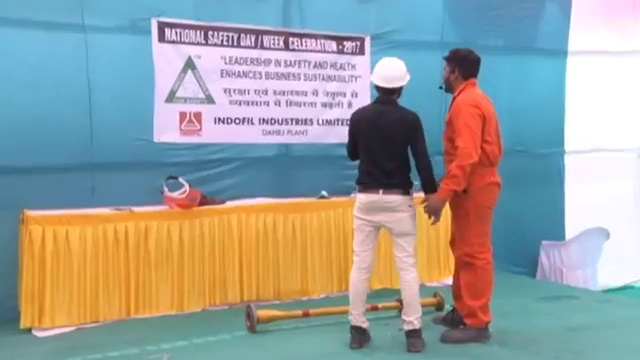helmet: (371, 56, 411, 87)
helmet_off: (439, 49, 480, 95)
helmet_on: (369, 55, 412, 106)
person: (340, 55, 435, 354), (427, 48, 498, 341)
